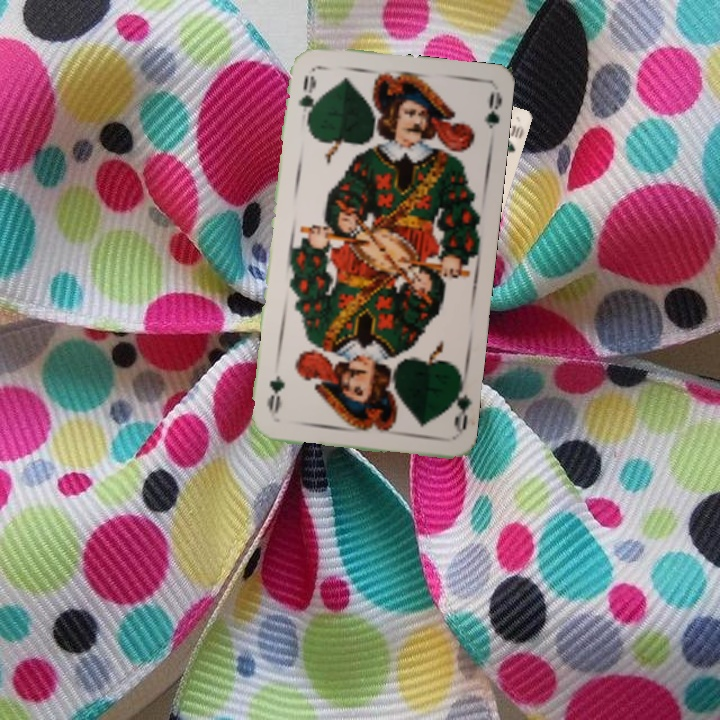GO: (444, 377, 472, 436), (294, 70, 319, 128)
